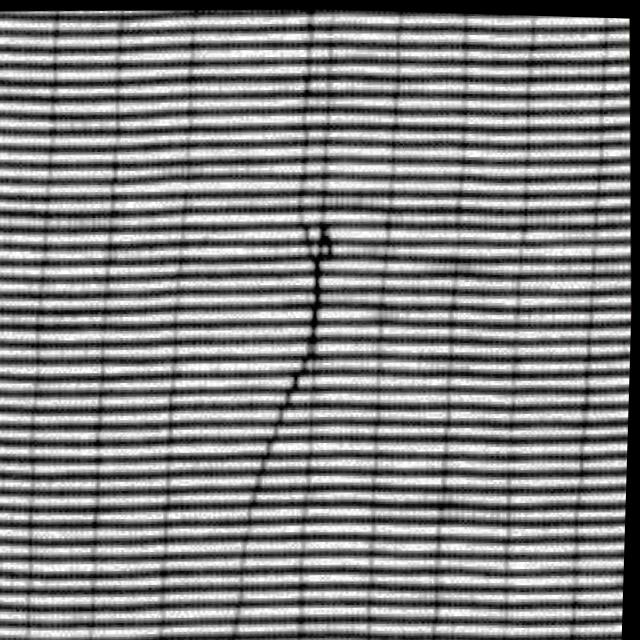Stitch: (234, 198, 349, 509)
